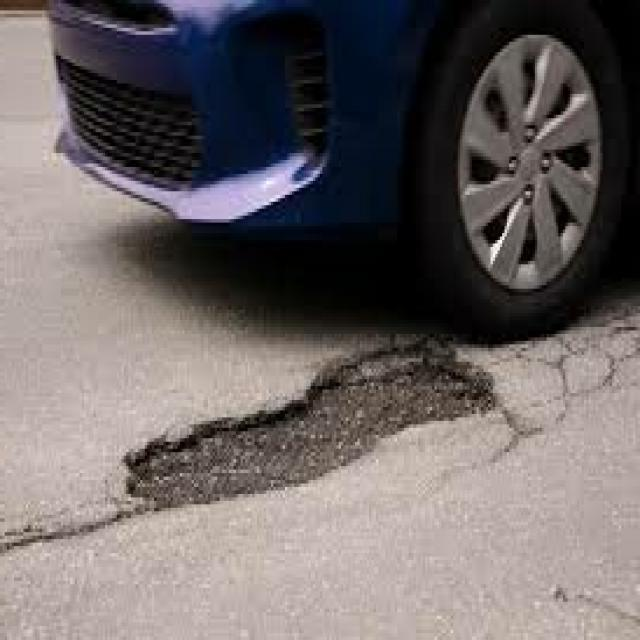pothole: (89, 306, 521, 546)
